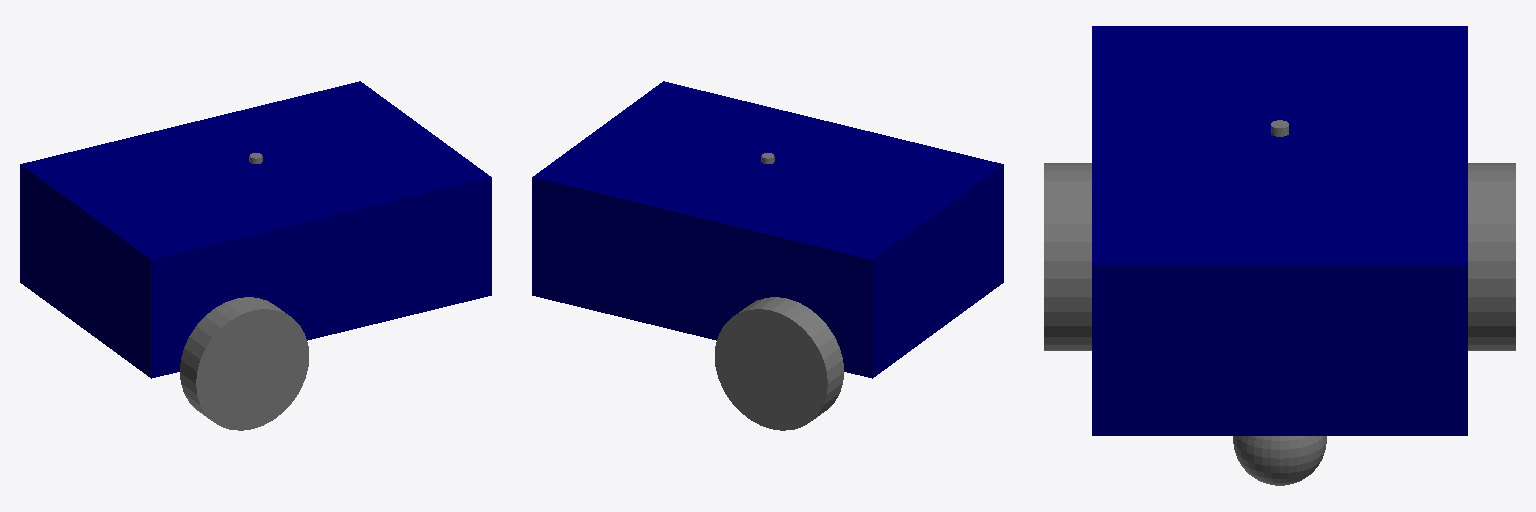
The robot description file, URDF, robot "my_robot":
<?xml version="1.0" ?>
<!-- =================================================================================== -->
<!-- |    This document was autogenerated by xacro from test_my_robot.urdf.xacro       | -->
<!-- |    EDITING THIS FILE BY HAND IS NOT RECOMMENDED                                 | -->
<!-- =================================================================================== -->
<robot name="my_robot">
  <!-- for giving color to a link -->
  <material name="green">
    <color rgba="0 0.5 0 1"/>
  </material>
  <material name="grey">
    <color rgba="0.5 0.5 0.5 1"/>
  </material>
  <material name="blue">
    <color rgba="0 0 0.5 1"/>
  </material>
  <!-- Everything has to be between this `robot` tag (like <html> tag in HTML) -->
  <!-- empty link -->
  <link name="base_footprint"/>
  <!-- base link is like the chasis of the robot -->
  <link name="base_link">
    <visual>
      <geometry>
        <!-- Everything in meters (60cm long, 40cm wide, 20cm high) -->
        <box size="0.6 0.4 0.2"/>
      </geometry>
      <!-- origin= center of gravity. relative to link origin -->
      <!-- rpy= roll-pitch-yaw (rotational x-y-z) -->
      <origin rpy="0 0 0" xyz="0 0 0.1"/>
      <!-- use the material defined above -->
      <material name="blue"/>
    </visual>
    <collision>
      <geometry>
        <box size="0.6 0.4 0.2"/>
      </geometry>
      <origin rpy="0 0 0" xyz="0 0 0.1"/>
      <surface>
        <contact>
          <collide_without_contact>true</collide_without_contact>
        </contact>
      </surface>
    </collision>
    <inertial>
      <origin rpy="0.0 0.0 0.0" xyz="0.0 0.0 0.1"/>
      <mass value="5.0"/>
      <!-- <inertia ixx="${(m/12.0) * (h*h + l*l)}" ixy="0.0" ixz="0.0" iyy="${(m/12.0) * (w*w + h*h)}" iyz="0.0" izz="${(m/12.0) * (w*w + l*l)}" /> -->
      <inertia ixx="1.3333333333333337" ixy="0.0" ixz="0.0" iyy="2.666666666666667" iyz="0.0" izz="3.466666666666667"/>
    </inertial>
  </link>
  <link name="left_wheel_link">
    <visual>
      <geometry>
        <cylinder length="0.05" radius="0.1"/>
      </geometry>
      <origin rpy="1.5707963267948966 0 0" xyz="0 0 0"/>
      <material name="grey"/>
    </visual>
    <collision>
      <geometry>
        <cylinder length="0.05" radius="0.1"/>
      </geometry>
      <origin rpy="1.5707963267948966 0 0" xyz="0 0 0"/>
      <surface>
        <contact>
          <collide_bitmask>0x02</collide_bitmask>
        </contact>
      </surface>
    </collision>
    <inertial>
      <origin rpy="1.5707963267948966 0 0" xyz="0 0 0"/>
      <mass value="1.0"/>
      <inertia ixx="0.002708333333333334" ixy="0.0" ixz="0.0" iyy="0.002708333333333334" iyz="0.0" izz="0.005000000000000001"/>
    </inertial>
  </link>
  <link name="right_wheel_link">
    <visual>
      <geometry>
        <cylinder length="0.05" radius="0.1"/>
      </geometry>
      <origin rpy="1.5707963267948966 0 0" xyz="0 0 0"/>
      <material name="grey"/>
    </visual>
    <collision>
      <geometry>
        <cylinder length="0.05" radius="0.1"/>
      </geometry>
      <origin rpy="1.5707963267948966 0 0" xyz="0 0 0"/>
      <surface>
        <contact>
          <collide_bitmask>0x02</collide_bitmask>
        </contact>
      </surface>
    </collision>
    <inertial>
      <origin rpy="1.5707963267948966 0 0" xyz="0 0 0"/>
      <mass value="1.0"/>
      <inertia ixx="0.002708333333333334" ixy="0.0" ixz="0.0" iyy="0.002708333333333334" iyz="0.0" izz="0.005000000000000001"/>
    </inertial>
  </link>
  <link name="caster_wheel_link">
    <visual>
      <geometry>
        <sphere radius="0.05"/>
      </geometry>
      <origin rpy="0 0 0" xyz="0 0 0"/>
      <material name="grey"/>
    </visual>
    <collision>
      <geometry>
        <sphere radius="0.05"/>
      </geometry>
      <origin rpy="0 0 0" xyz="0 0 0"/>
      <surface>
        <contact>
          <collide_bitmask>0x02</collide_bitmask>
        </contact>
      </surface>
    </collision>
    <inertial>
      <origin rpy="0 0 0" xyz="0 0 0"/>
      <mass value="0.5"/>
      <inertia ixx="0.0005000000000000001" ixy="0.0" ixz="0.0" iyy="0.0005000000000000001" iyz="0.0" izz="0.0005000000000000001"/>
    </inertial>
  </link>
  <!-- We have to provide joints -->
  <joint name="base_joint" type="fixed">
    <parent link="base_footprint"/>
    <child link="base_link"/>
    <origin rpy="0 0 0" xyz="0 0 0.1"/>
  </joint>
  <!-- name= {parentLink}_{childLink}_joint (just a convention to keep things consistent, not a necessity) -->
  <!-- base-right_wheel joint -->
  <joint name="base_right_wheel_joint" type="continuous">
    <!-- [type="continuous"]= revolute but with no limits -->
    <!-- 4 most common joint types= fixed, revolute, continuous, prismatic -->
    <parent link="base_link"/>
    <child link="right_wheel_link"/>
    <!-- ! tip for beginners= put 0 to everything first, then modify by observing the positions at RViz -->
    <origin rpy="0 0 0" xyz="-0.15 -0.225 0"/>
    <!-- 0= no rotation, 1= +rotation, -1= -rotation -->
    <axis xyz="0 1 0"/>
    <!-- lower, upper limits= required for [type="revolute"] (in radians) -->
    <!-- <limit lower="-${ pi / 2.0 }" upper="${ pi / 2.0 }" velocity="100" effort="100" /> -->
  </joint>
  <!-- base-left_wheel joint -->
  <joint name="base_left_wheel_joint" type="continuous">
    <parent link="base_link"/>
    <child link="left_wheel_link"/>
    <origin rpy="0 0 0" xyz="-0.15 0.225 0"/>
    <axis xyz="0 1 0"/>
  </joint>
  <joint name="base_caster_wheel_joint" type="fixed">
    <parent link="base_link"/>
    <child link="caster_wheel_link"/>
    <origin rpy="0 0 0" xyz="0.19999999999999998 0 -0.05"/>
  </joint>
  <gazebo reference="base_link">
    <material>Gazebo/Blue</material>
  </gazebo>
  <gazebo reference="left_wheel_link">
    <material>Gazebo/Grey</material>
  </gazebo>
  <gazebo reference="right_wheel_link">
    <material>Gazebo/Grey</material>
  </gazebo>
  <gazebo reference="caster_wheel_link">
    <material>Gazebo/Grey</material>
    <!-- these lines are about friction (coefficients) -->
    <mu1 value="0.1"/>
    <mu2 value="0.1"/>
  </gazebo>
  <!-- diff drive plugin -->
  <gazebo>
    <plugin filename="libgazebo_ros_diff_drive.so" name="diff_drive_controller">
      <!-- Update rate in Hz -->
      <update_rate>50</update_rate>
      <!-- wheels -->
      <left_joint>base_left_wheel_joint</left_joint>
      <right_joint>base_right_wheel_joint</right_joint>
      <!-- kinematics -->
      <wheel_separation>0.45</wheel_separation>
      <wheel_diameter>0.2</wheel_diameter>
      <!-- limits -->
      <max_wheel_torque>20</max_wheel_torque>
      <max_wheel_acceleration>1.8</max_wheel_acceleration>
      <!-- input -->
      <!-- send commands to this topic, robot node will listen to this topic -->
      <command_topic>cmd_vel</command_topic>
      <!-- output -->
      <publish_odom>true</publish_odom>
      <publish_odom_tf>true</publish_odom_tf>
      <publish_wheel_tf>true</publish_wheel_tf>
      <robotNamespace/>
      <always_on>1</always_on>
      <odometry_topic>odom</odometry_topic>
      <odometry_frame>odom</odometry_frame>
      <!-- <odometrySource>world</odometrySource> -->
      <robot_base_frame>base_footprint</robot_base_frame>
    </plugin>
  </gazebo>
  <!-- Reference -> https://classic.gazebosim.org/tutorials?tut=ros_gzplugins -->
  <!-- we have to define link and joint -->
  <link name="lidar_link">
    <visual>
      <geometry>
        <cylinder length="0.01" radius="0.01"/>
      </geometry>
      <material name="grey"/>
    </visual>
    <collision>
      <geometry>
        <cylinder length="0.01" radius="0.01"/>
      </geometry>
      <surface>
        <contact>
          <collide_bitmask>0x02</collide_bitmask>
        </contact>
      </surface>
    </collision>
    <inertial>
      <origin rpy="0 0 0" xyz="0 0 0"/>
      <mass value="0.1"/>
      <inertia ixx="3.333333333333333e-06" ixy="0.0" ixz="0.0" iyy="3.333333333333333e-06" iyz="0.0" izz="5e-06"/>
    </inertial>
  </link>
  <joint name="base_lidar_joint" type="fixed">
    <parent link="base_link"/>
    <child link="lidar_link"/>
    <origin rpy="0.0 0.0 0.0" xyz="0.0 0.0 0.22"/>
    <!-- <axis xyz="0.0 0.0 0.0"/> -->
  </joint>
  <gazebo reference="lidar_link">
    <material>Gazebo/Red</material>
    <sensor name="laser" type="ray">
      <pose> 0 0 0 0 0 0 </pose>
      <visualize>0</visualize>
      <update_rate>100</update_rate>
      <!-- <update_rate>1000</update_rate> -->
      <always_on>1</always_on>
      <ray>
        <scan>
          <horizontal>
            <!-- <samples>360</samples> -->
            <resolution>1</resolution>
            <samples>180</samples>
            <!-- <min_angle>${-3*pi/4.0}</min_angle>
            <max_angle>${3*pi/4.0}</max_angle> -->
            <min_angle>-1.5707963267948966</min_angle>
            <max_angle>1.5707963267948966</max_angle>
          </horizontal>
        </scan>
        <range>
          <min>0.3</min>
          <max>10.0</max>
          <resolution>0.01</resolution>
        </range>
      </ray>
      <plugin filename="libgazebo_ros_ray_sensor.so" name="laser_controller">
        <ros>
          <remapping>~/out:=scan</remapping>
        </ros>
        <output_type>sensor_msgs/LaserScan</output_type>
        <frame_name>lidar_link</frame_name>
      </plugin>
    </sensor>
  </gazebo>
</robot>

--- Render facts (derived) ---
Views: 3 orthographic renders of the robot side by side, from view 1: azimuth 30°, elevation 25°; view 2: azimuth 150°, elevation 25°; view 3: azimuth 270°, elevation 25°.
Robot: my_robot — 6 links, 5 joints (2 continuous, 3 fixed); root link base_footprint; default pose: all joints at 0.
Links seen in each view (by area): view 1: base_link, right_wheel_link; view 2: base_link, left_wheel_link; view 3: base_link, left_wheel_link, right_wheel_link, caster_wheel_link.
Link boxes in pixels (x1=…): base_link: x1=20, y1=81, x2=491, y2=378; right_wheel_link: x1=180, y1=297, x2=308, y2=430; base_link: x1=532, y1=81, x2=1003, y2=378; left_wheel_link: x1=715, y1=297, x2=843, y2=430; base_link: x1=1092, y1=26, x2=1467, y2=435; left_wheel_link: x1=1468, y1=163, x2=1515, y2=350; right_wheel_link: x1=1044, y1=163, x2=1091, y2=350; caster_wheel_link: x1=1233, y1=436, x2=1326, y2=485.
Size in the robot's own frame: 0.6 by 0.5 by 0.325 metres.
Geometry: primitives only (box / cylinder / sphere), no mesh files.
